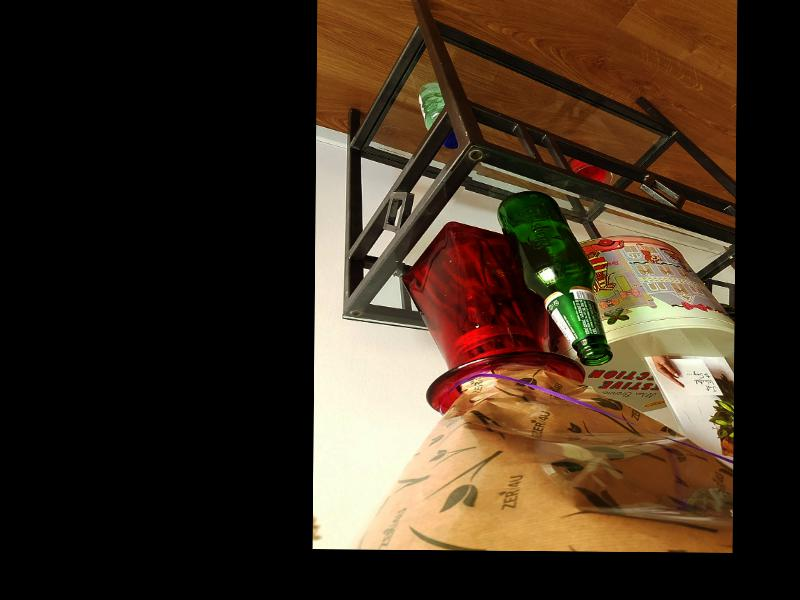Beer: (496, 191, 611, 366)
